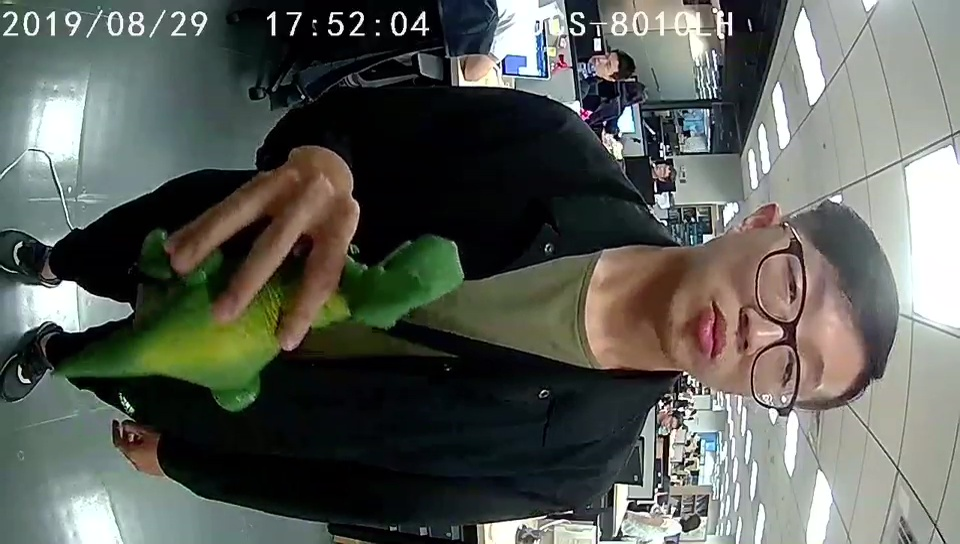rex: (126, 229, 464, 412)
